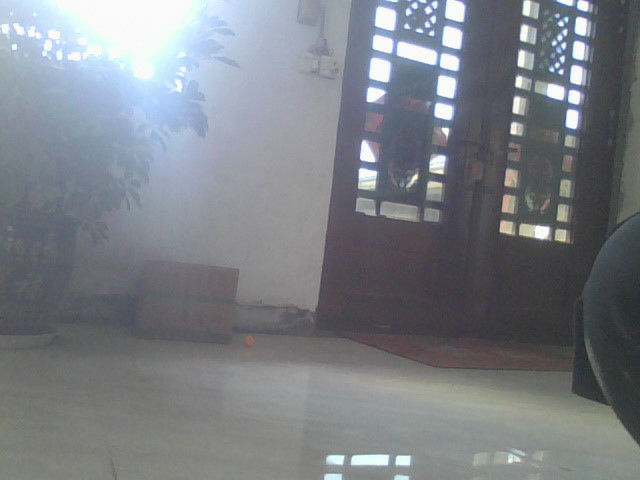ball: (242, 332, 255, 345)
